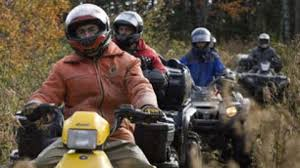helmet: (60, 1, 112, 59), (113, 8, 146, 48), (187, 25, 214, 52), (255, 33, 273, 53)
